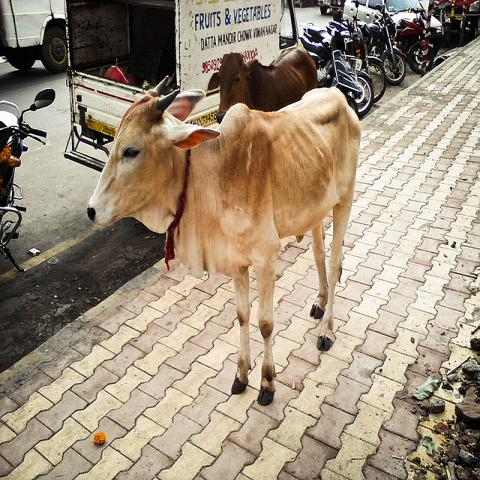car: (342, 0, 444, 57), (2, 1, 73, 72)
motorcycle: (0, 83, 58, 280), (299, 3, 387, 104), (298, 17, 375, 119), (358, 1, 406, 84), (395, 8, 444, 72)
truck: (56, 0, 288, 181)
